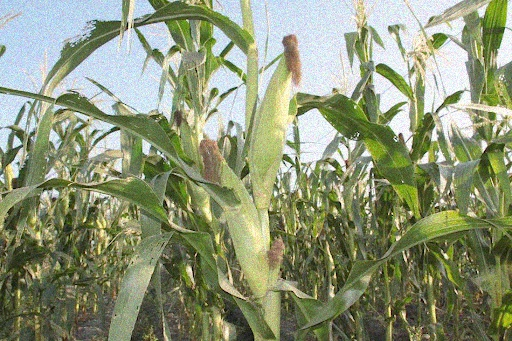corn_plant: (199, 140, 272, 300), (257, 33, 303, 210)
